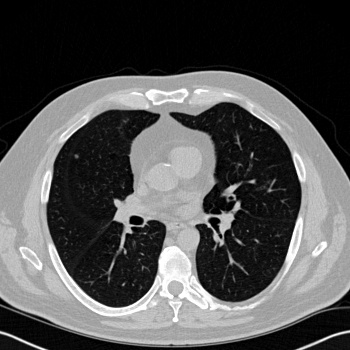PN: (74, 154, 78, 158)
